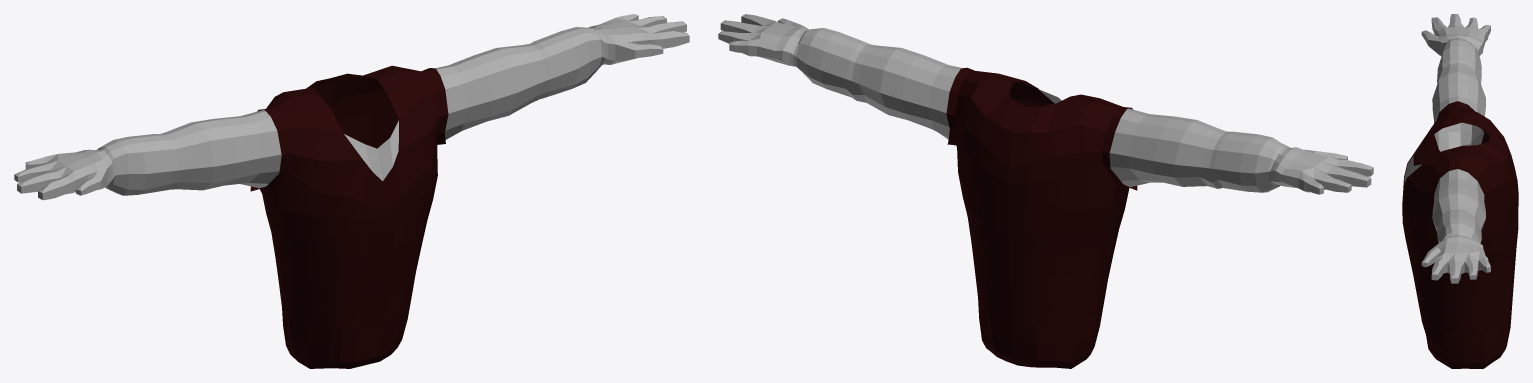
Rendered from Character_FBX.fbx.
3 views of the same model, side by side, from view 1: azimuth 30°, elevation 25°; view 2: azimuth 150°, elevation 25°; view 3: azimuth 270°, elevation 25° (orthographic). The views are drawn at different scales.
Visible parts, largest first — view 1: pCylinder6; view 2: pCylinder6; view 3: pCylinder6.
Boxes of the visible parts, bbox=[...] form: pCylinder6: bbox=[14, 14, 689, 368]; pCylinder6: bbox=[718, 14, 1373, 368]; pCylinder6: bbox=[1402, 14, 1518, 368].
Bounding box in the file's own units: 343 × 133 × 63.7.
